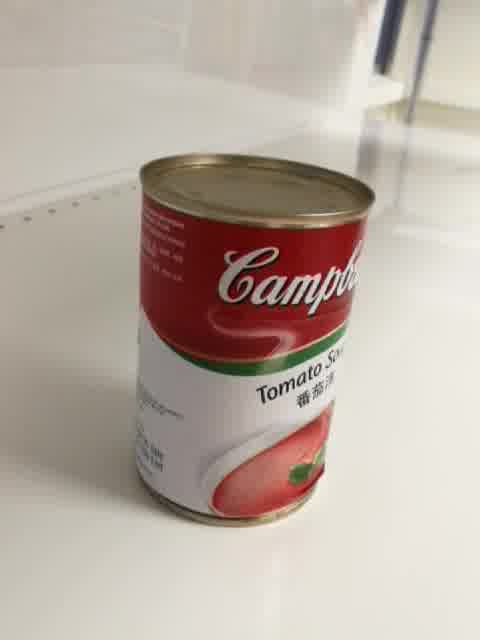tomatosoup: (132, 150, 377, 533)
